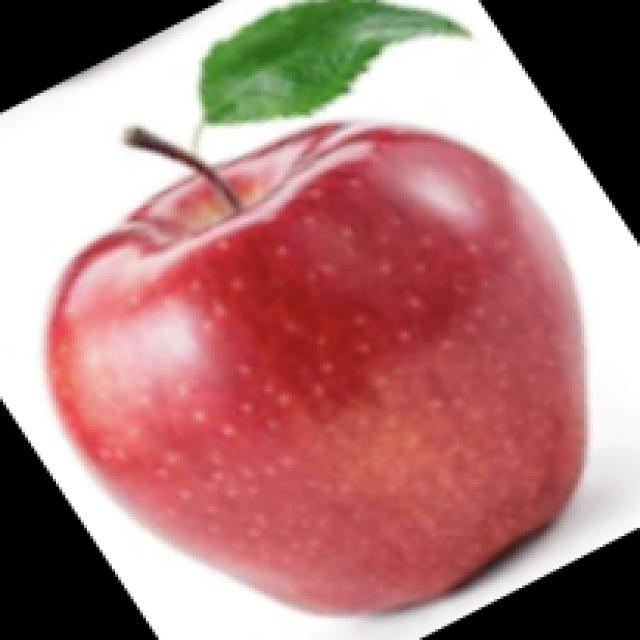Fresh Apple: (55, 130, 585, 618)
